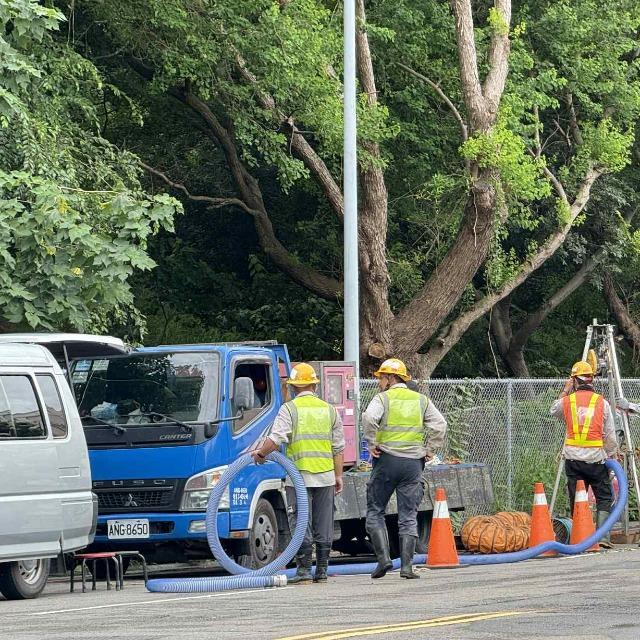Helmet: (282, 359, 326, 396)
Vest: (276, 393, 343, 489), (373, 387, 436, 463), (560, 386, 610, 461)
